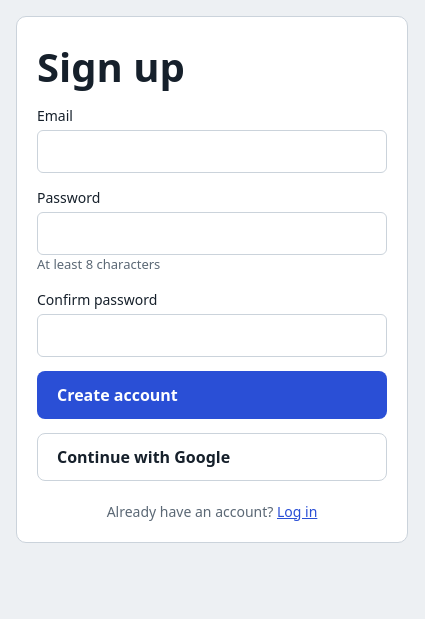
Test: SignupPage › rejects mismatched passwords
Type "new@user.com" into the field labelled "Email" at (212, 152), box [37,130,387,173]
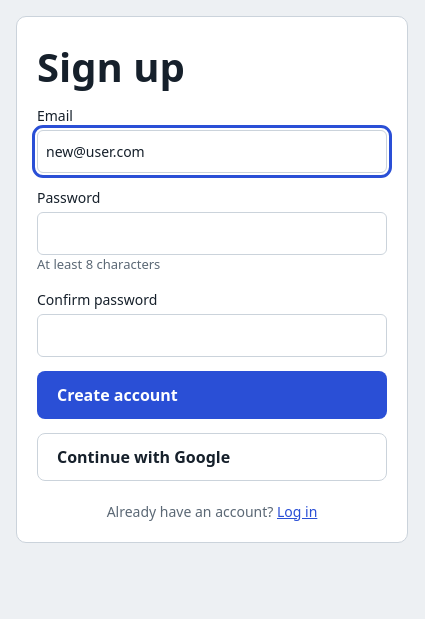
Type "Password1!" into the password field labelled "Password At least 8 characters" at (212, 234), box [37,212,387,255]
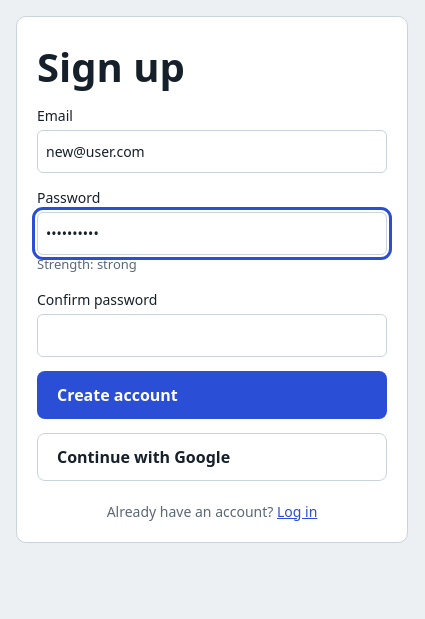
Type "Different1!" into the password field labelled "Confirm password" at (212, 335), box [37,314,387,356]
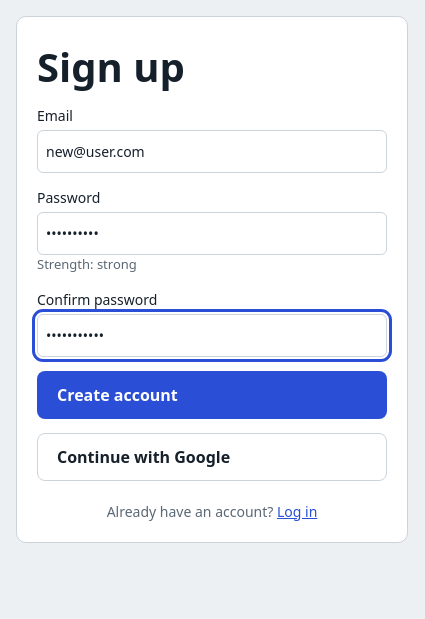
Click the button "Create account" at (117, 394), box [37,370,387,418]
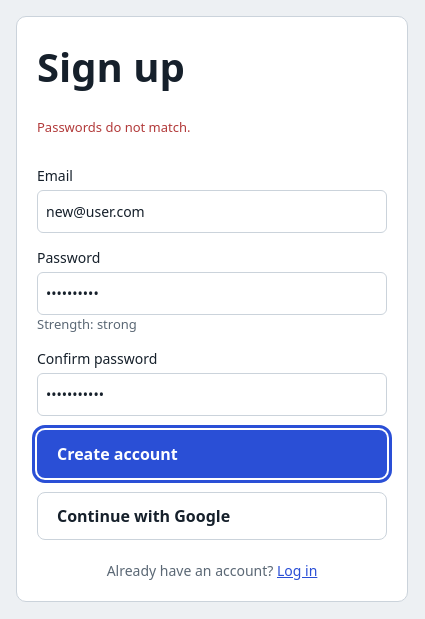
Check: the text "Passwords do not match." is shown, box [37,118,190,136]
